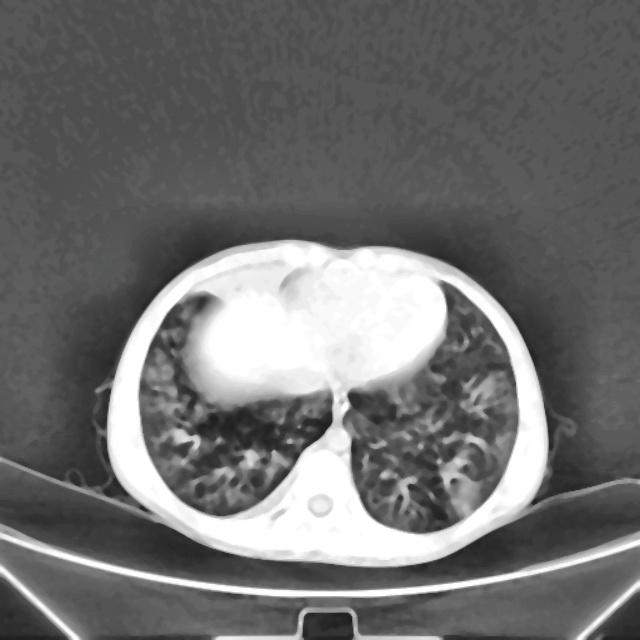covid: (100, 237, 550, 566)
